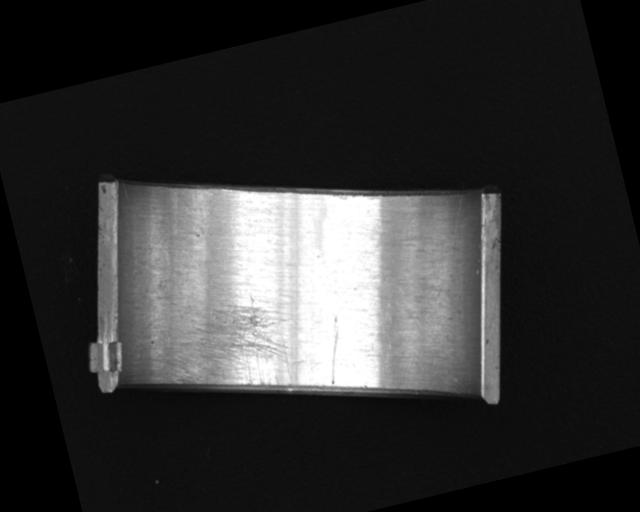nick: (415, 194, 482, 297), (316, 315, 353, 385)
scratch: (160, 289, 298, 412)
